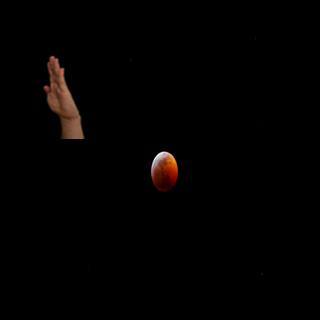RIGHT: (41, 54, 82, 123)
